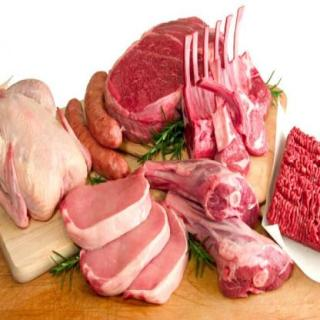Daging Sapi: (186, 4, 274, 175), (110, 18, 227, 139), (166, 196, 296, 302), (141, 158, 259, 224), (197, 76, 270, 154)
